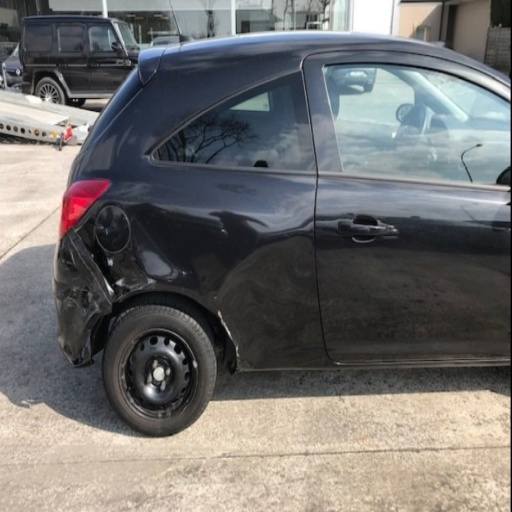dent: (218, 235, 326, 368), (78, 201, 188, 300), (55, 279, 110, 366), (207, 212, 268, 268), (54, 233, 109, 294), (194, 253, 226, 297)
rust: (227, 344, 257, 375)
scratch: (114, 275, 157, 291), (163, 269, 192, 283), (68, 244, 75, 266), (107, 256, 115, 268), (71, 286, 88, 291)
